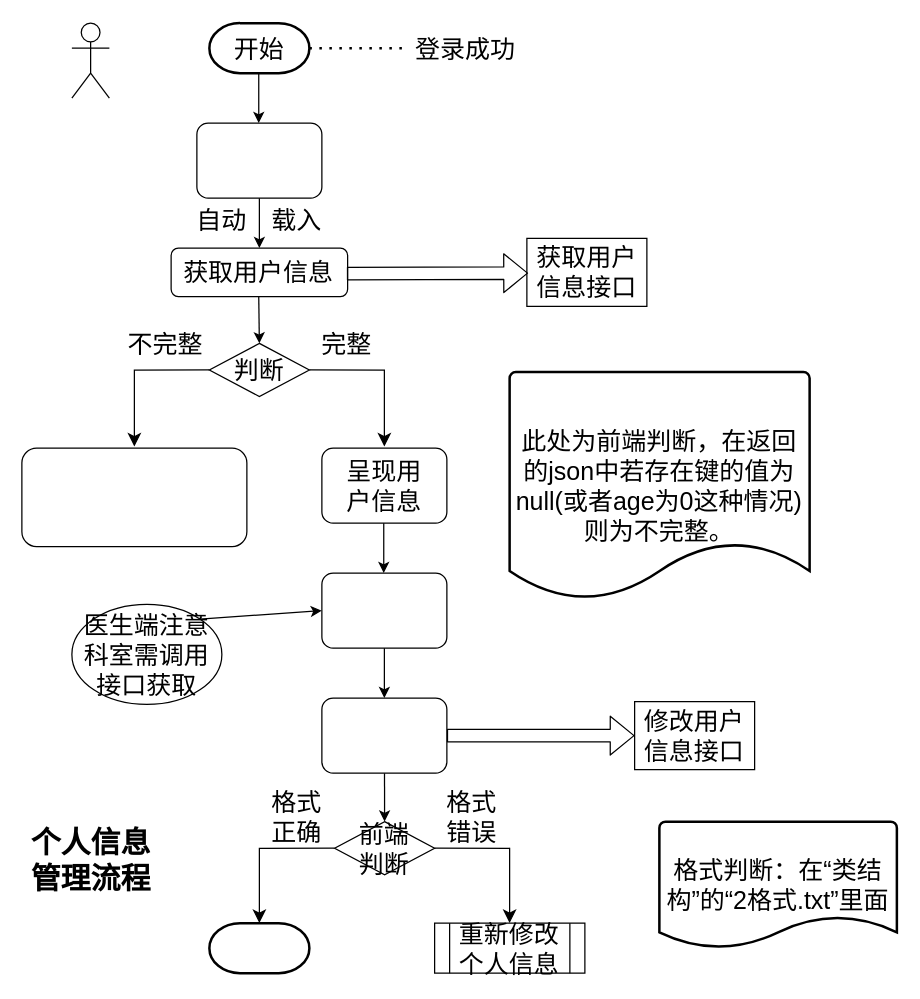
This 920x999 diagram has some shape labels left out. Here are the shapes that lost their labels. From the top down, the centre of each, then its label:
At point (90, 60): "三端".
At point (259, 160): "进入个人 信息页面".
At point (134, 497): "提示个人信息不完整，请尽快完善。".
At point (384, 610): "修改对应个人信息".
At point (384, 735): "点击修 改按钮".
At point (259, 947): "结束".
